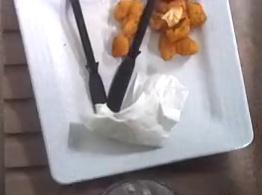carrots: (150, 0, 206, 60), (112, 1, 144, 57)
